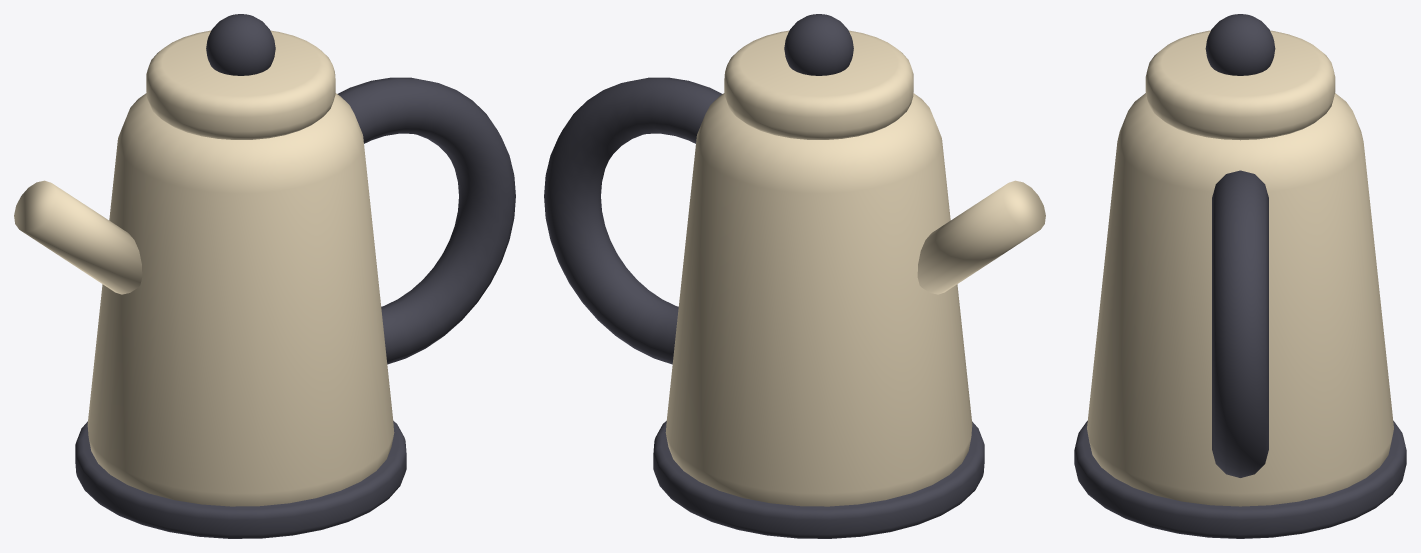
Rendered from kettle.glb.
3 views of the same model, side by side, from view 1: azimuth 30°, elevation 25°; view 2: azimuth 150°, elevation 25°; view 3: azimuth 270°, elevation 25° (orthographic).
Visible parts, largest first — view 1: kettle; view 2: kettle; view 3: kettle.
Part boxes in pixels (x1,y1,x2,y2): kettle: (14,14,515,538); kettle: (544,14,1045,538); kettle: (1074,14,1406,538).
Size of the model in its own units: 0.3597 by 0.317 by 0.21.
